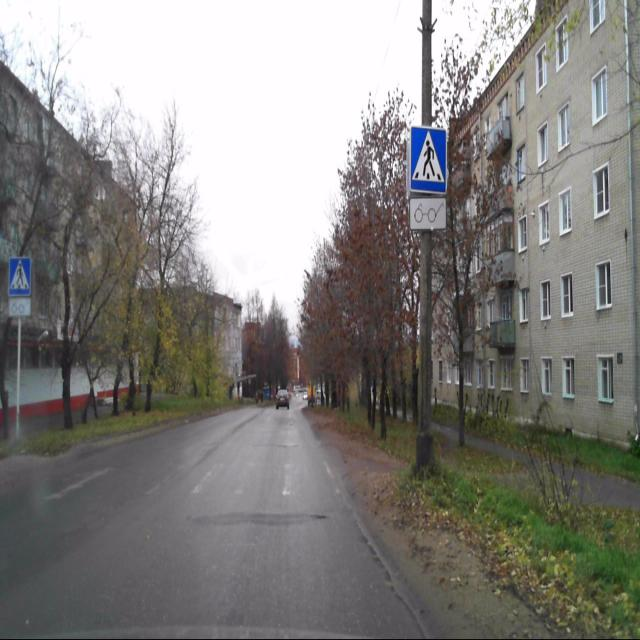road sign: (410, 124, 448, 195), (410, 198, 446, 229), (8, 258, 30, 296), (8, 297, 30, 317)
